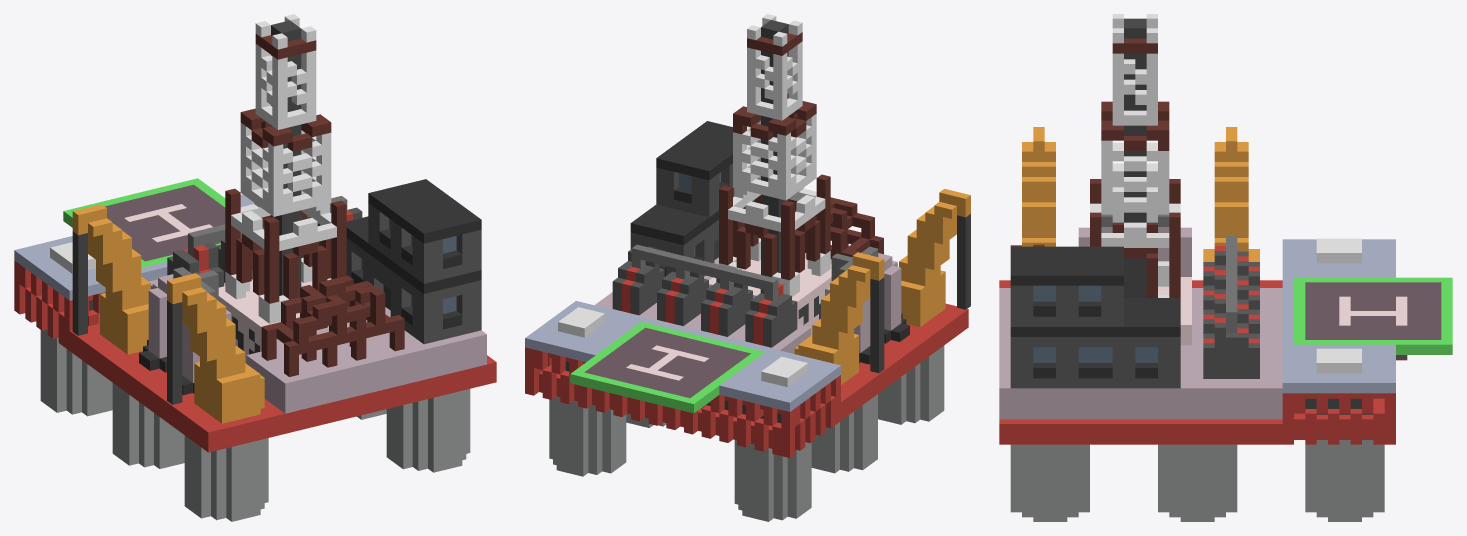
Rendered from OilWell.fbx.
3 views of the same model, side by side, from view 1: azimuth 30°, elevation 25°; view 2: azimuth 150°, elevation 25°; view 3: azimuth 270°, elevation 25° (orthographic). The views are drawn at different scales.
Parts seen in each view (by area): view 1: OilWell.001; view 2: OilWell.001; view 3: OilWell.001.
Boxes of the visible parts, left/top/right/bottom form: OilWell.001: left=14, top=14, right=496, bottom=521; OilWell.001: left=525, top=14, right=970, bottom=521; OilWell.001: left=999, top=14, right=1452, bottom=521.
Bounding box in the file's own units: 3200 × 4200 × 4000.
